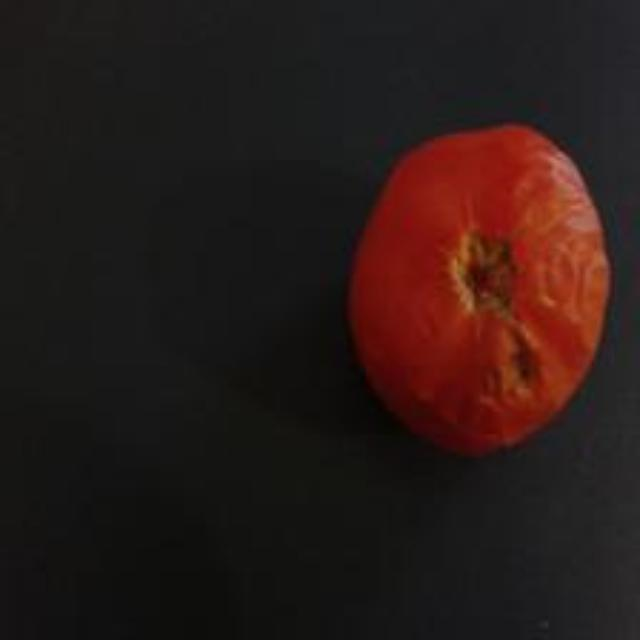defect: (348, 117, 616, 460)
